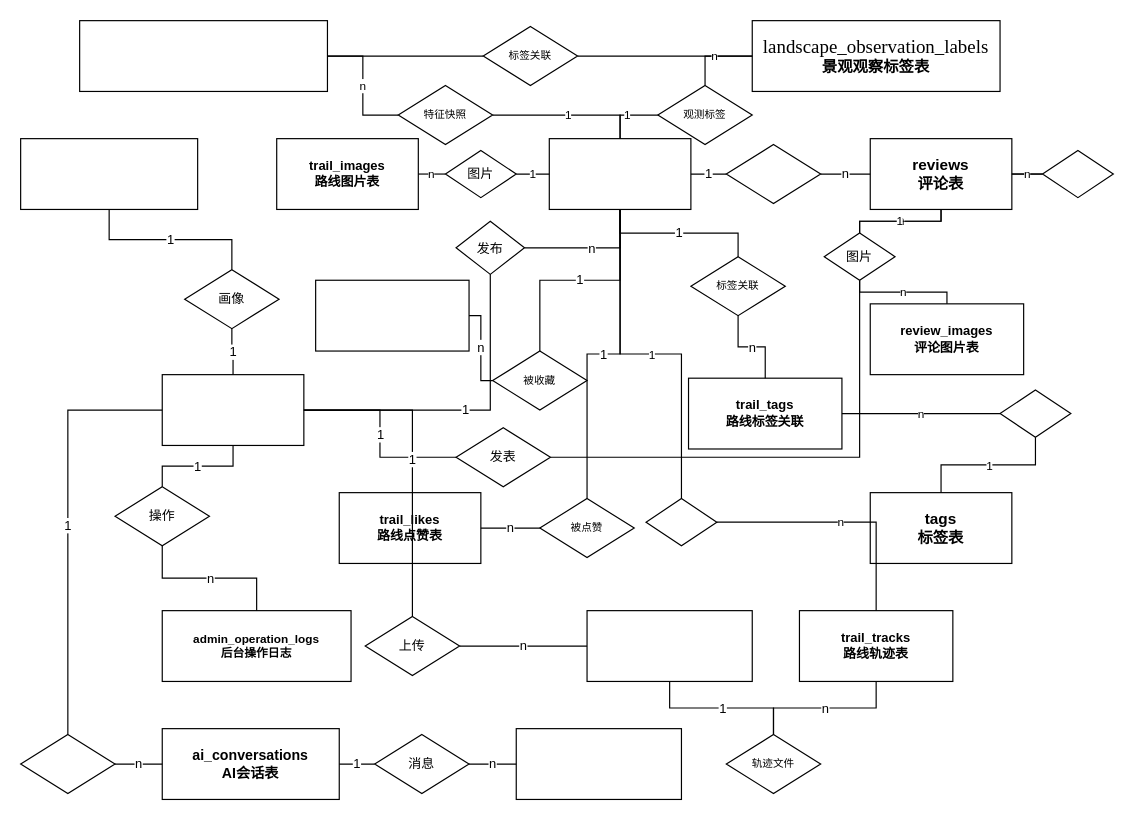
This 1134x820 diagram has some shape labels left out. Here are the shapes that lost their labels. From the top down, the centre of each, then its label:
At pixel 202 55: "landscape_feature_snapshots 景观特征快照 表".
At pixel 108 173: "user_hiking_profiles 用户徒步画像".
At pixel 619 173: "trails 路线表".
At pixel 773 173: "被评论".
At pixel 1077 173: "回复".
At pixel 391 315: "trail_favorites 路线收藏表".
At pixel 232 409: "users 用户表".
At pixel 1035 413: "标记".
At pixel 681 521: "轨迹".
At pixel 669 645: "media_files 媒体文件表".
At pixel 67 763: "创建会话".
At pixel 598 763: "ai_messages AI消息表".
